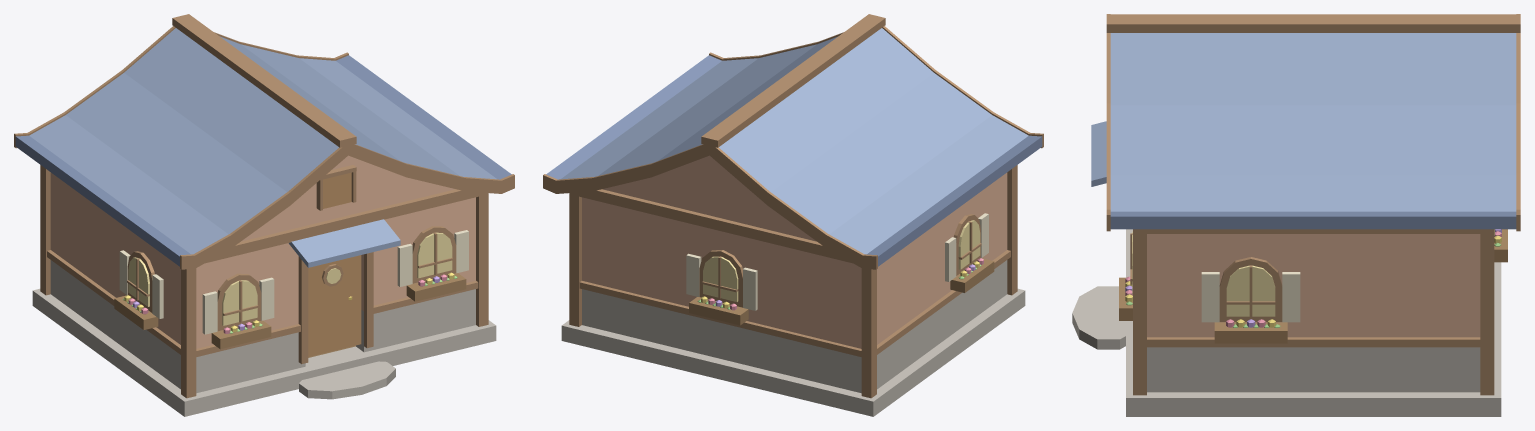
Rendered from farmhouse_brick.glb.
3 renders of one model, left to right at view 1: azimuth 30°, elevation 25°; view 2: azimuth 150°, elevation 25°; view 3: azimuth 270°, elevation 25°, orthographic. The views are drawn at different scales.
Parts seen in each view (by area): view 1: Player; view 2: Player; view 3: Player.
Part boxes in pixels (bbox=[...]): Player: bbox=[14, 14, 514, 416]; Player: bbox=[543, 14, 1043, 416]; Player: bbox=[1072, 14, 1520, 416].
Size of the model in its own units: 6.84 by 4.82 by 6.45.
